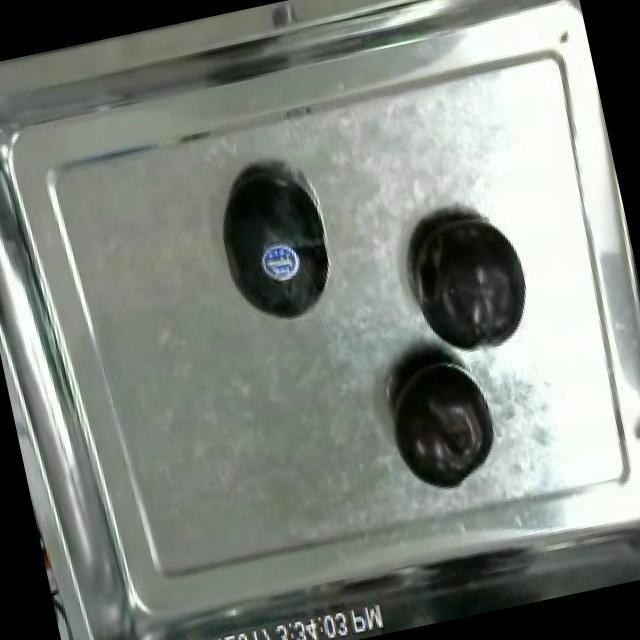Fruit: (393, 196, 543, 367), (203, 162, 346, 340), (376, 340, 508, 502)
